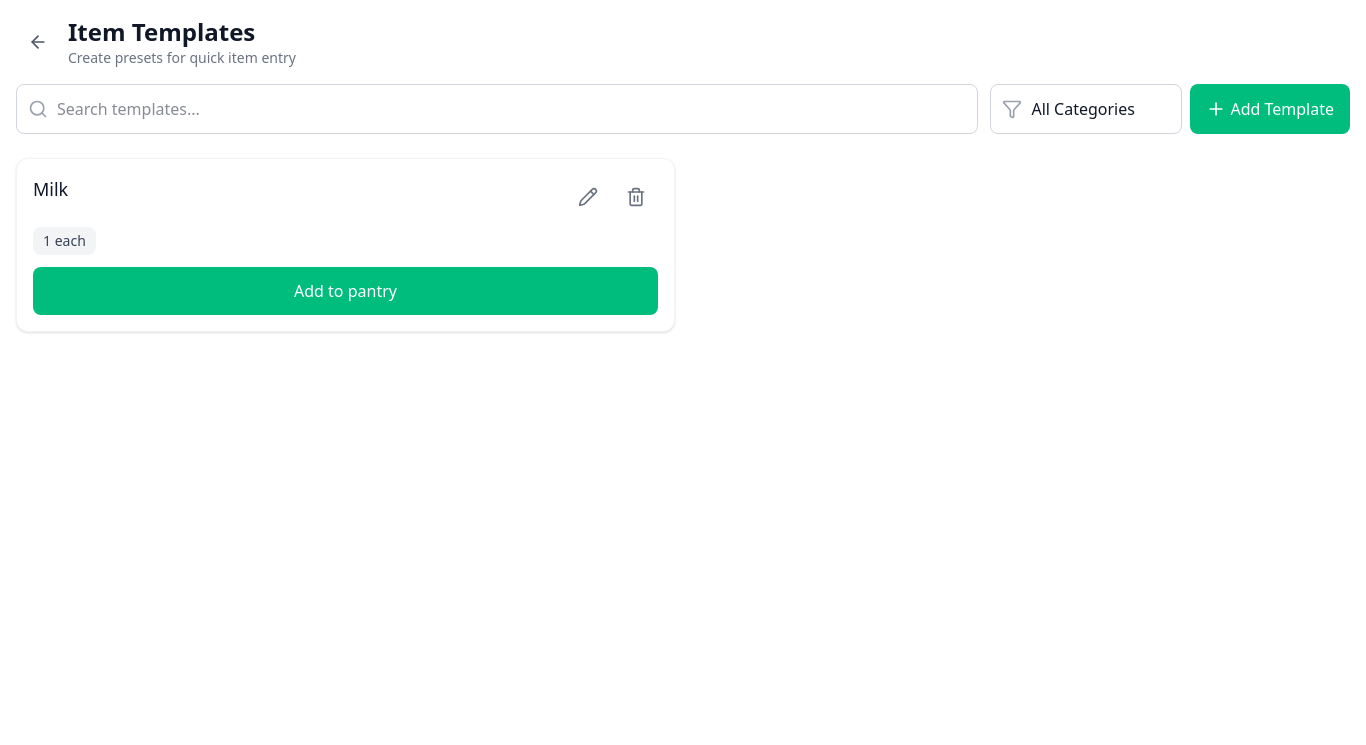
Scenario: TemplatesPage CRUD failures › shows an error when update mutate rejects and keeps the edit form open
The width and height of the screenshot is (1366, 745).
Click the button named "edit milk".
click(588, 197)  # box [566, 175, 610, 219]
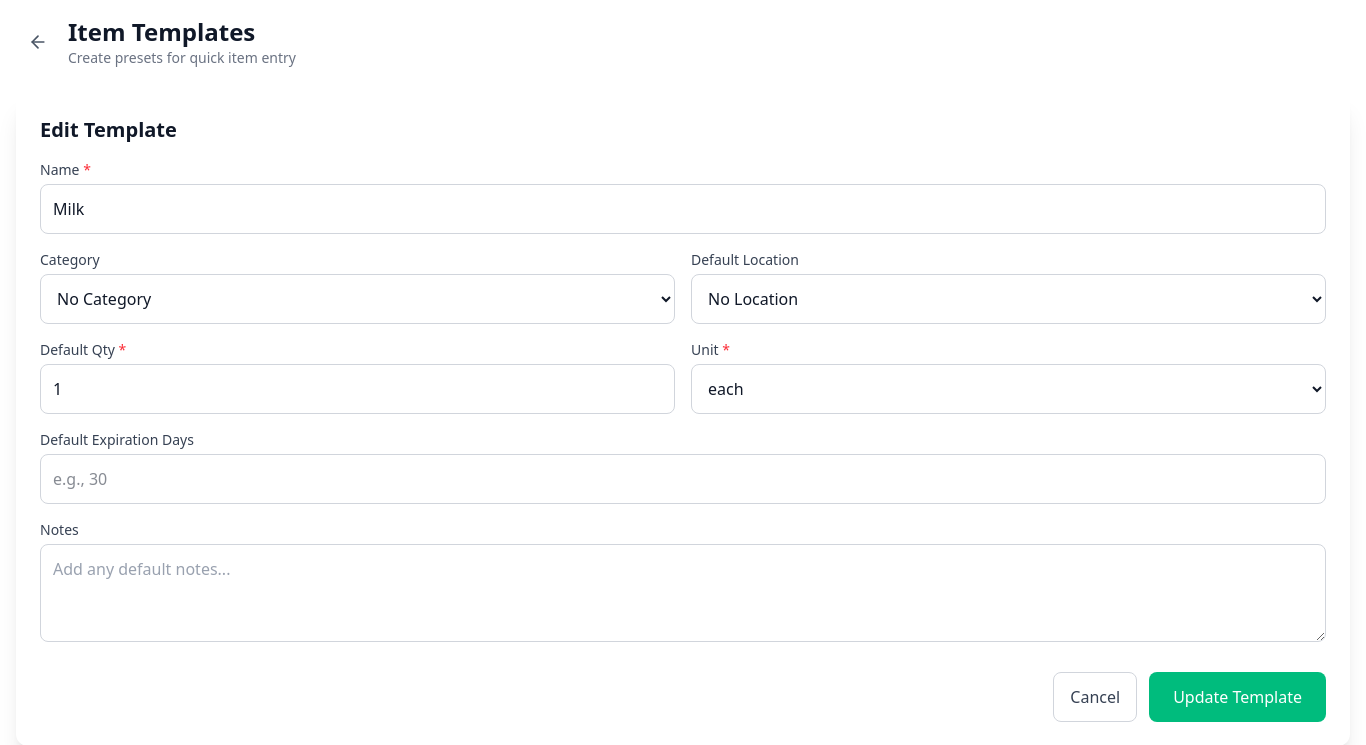
Click the button "Update Template".
click(1238, 697)  # box [1149, 672, 1326, 722]
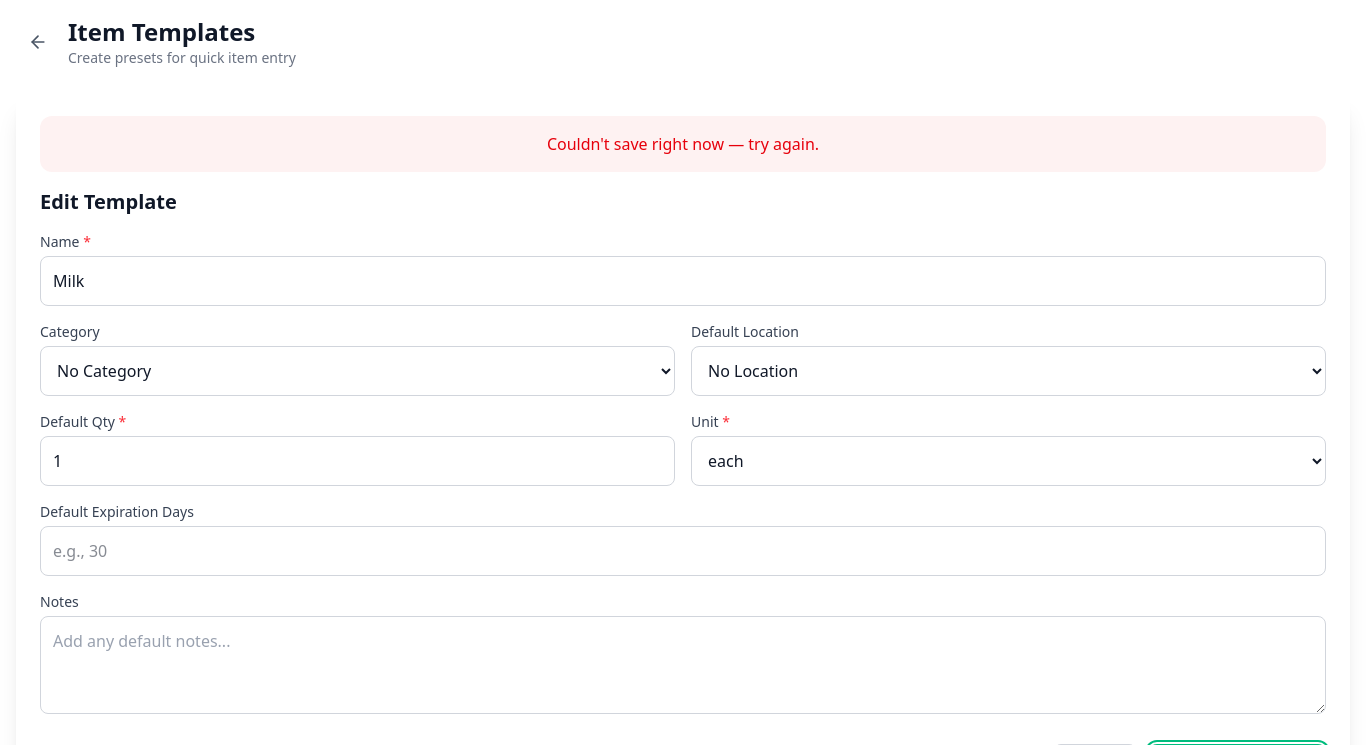
Now the heading "Edit Template" is shown, box [40, 188, 177, 215]
Now the field labelled "Name *" is shown, box [40, 256, 1326, 306]
Now the text "Couldn't save right now — try again." is shown, box [547, 133, 819, 155]
